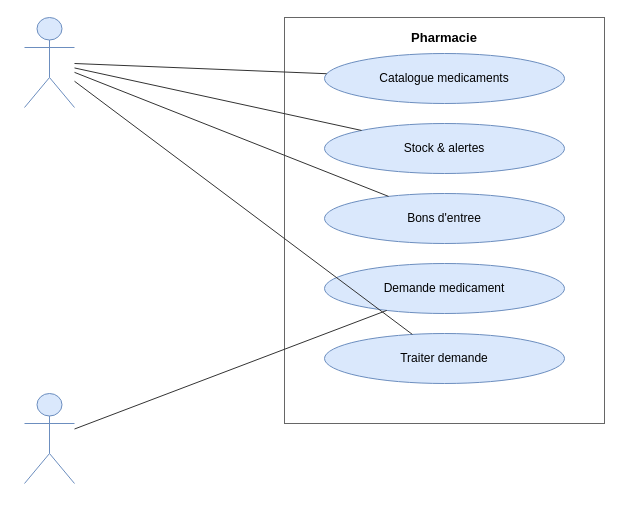
Some shapes in this 622 by 522 pixel diagram are drawn without their labels. Here are the shapes that lost their labels. From the top down, the centre of each, then its label:
At [49,62]: "Pharmacien".
At [49,438]: "Medecin".
